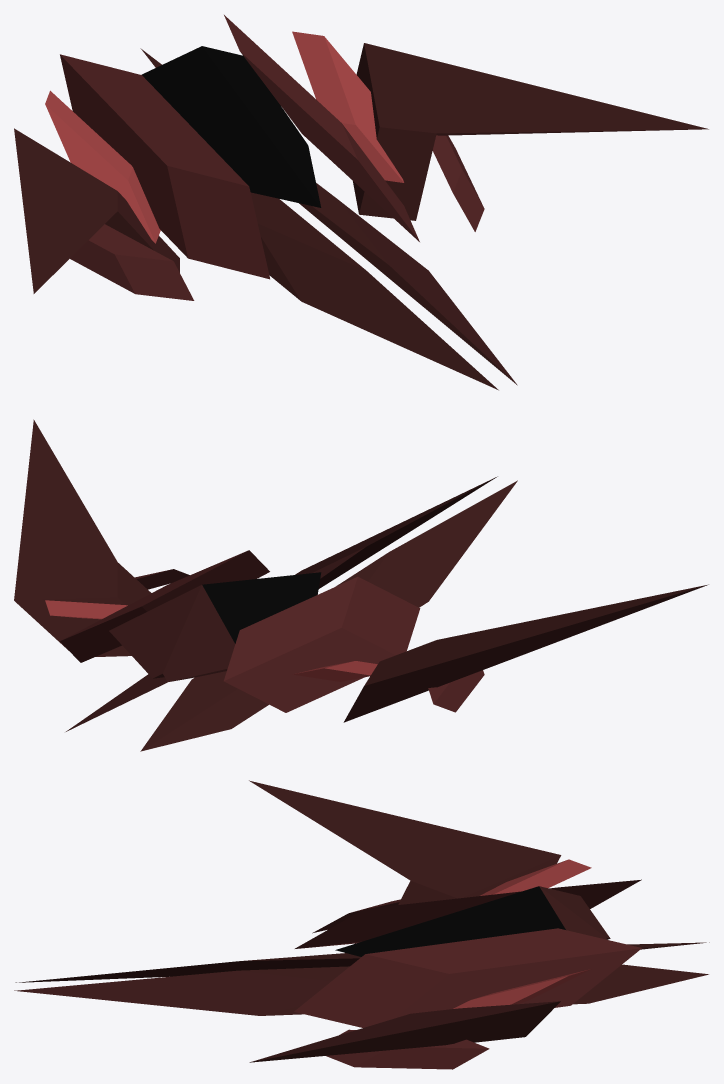
3 renders of one model, top to bottom at view 1: azimuth 30°, elevation 25°; view 2: azimuth 150°, elevation 25°; view 3: azimuth 270°, elevation 25°, orthographic. The views are drawn at different scales.
Parts seen in each view (by area): view 1: LowPolySpaceship01; view 2: LowPolySpaceship01; view 3: LowPolySpaceship01.
Part boxes in pixels (x1,y1,x2,y2): LowPolySpaceship01: (14,15,708,390); LowPolySpaceship01: (14,419,708,751); LowPolySpaceship01: (14,780,709,1069).
Bounding box in the file's own units: 4.62 × 0.9214 × 4.81.
